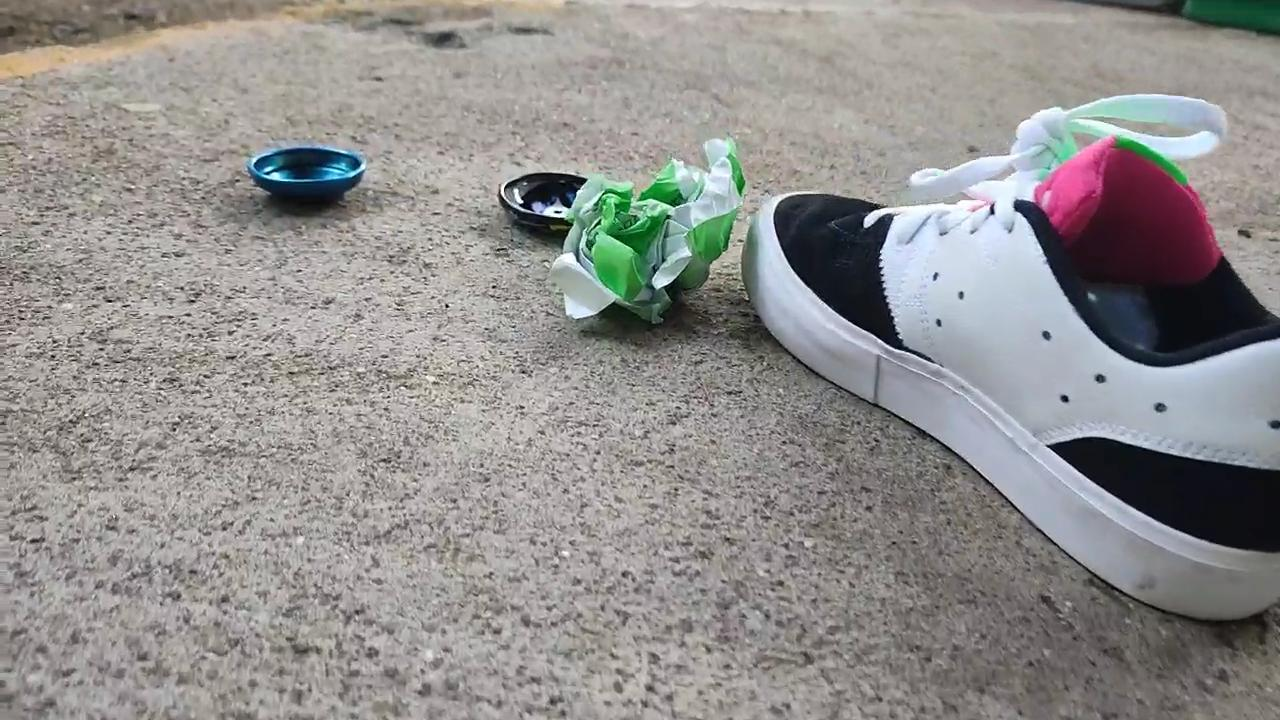Paper: (546, 121, 748, 347)
